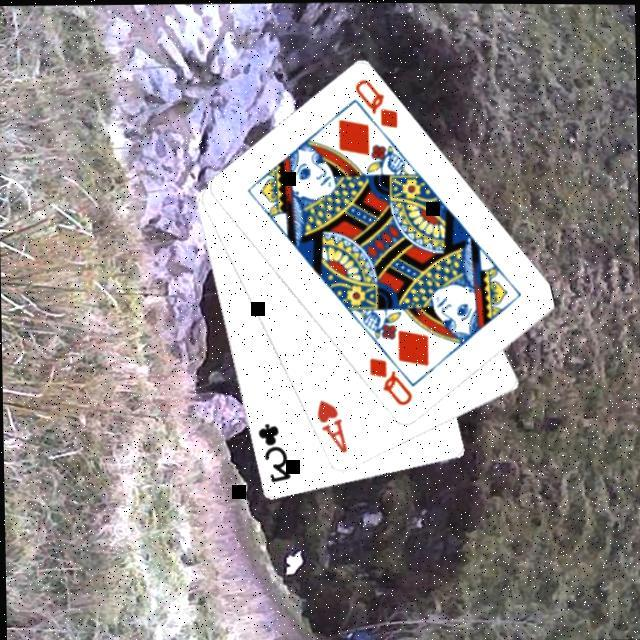3C: (255, 421, 294, 488)
AH: (314, 397, 351, 458)
QD: (351, 76, 402, 133), (365, 356, 416, 411)
